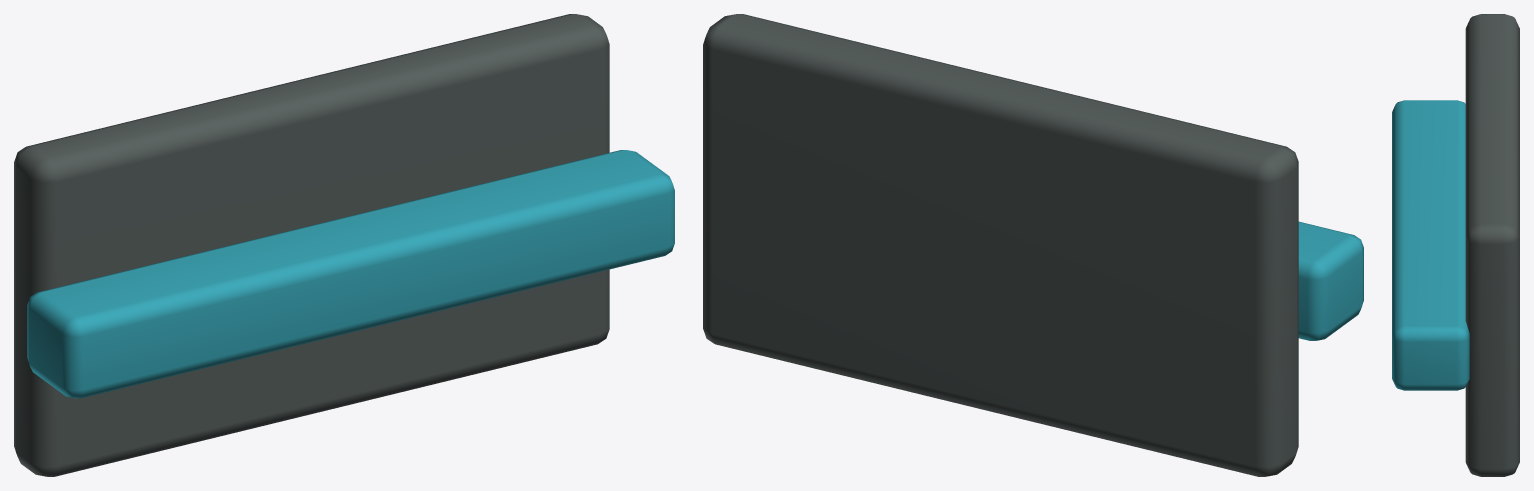
The model's file is SM_Gate_Latch.fbx.
The picture shows the model from 3 angles, left to right: view 1: azimuth 30°, elevation 25°; view 2: azimuth 150°, elevation 25°; view 3: azimuth 270°, elevation 25°; orthographic projection. The views are drawn at different scales.
Visible parts, largest first — view 1: Latch_backplate, Bolt_sliding; view 2: Latch_backplate, Bolt_sliding; view 3: Latch_backplate, Bolt_sliding.
Boxes of the visible parts, box(x1,y1,x2,y2) form: Latch_backplate: box(14, 14, 609, 476); Bolt_sliding: box(27, 150, 674, 398); Latch_backplate: box(703, 14, 1298, 476); Bolt_sliding: box(1298, 221, 1363, 340); Latch_backplate: box(1465, 14, 1519, 476); Bolt_sliding: box(1392, 100, 1469, 390).
Size of what is drawn, in the model's own units: 36 by 8.25 by 18.
